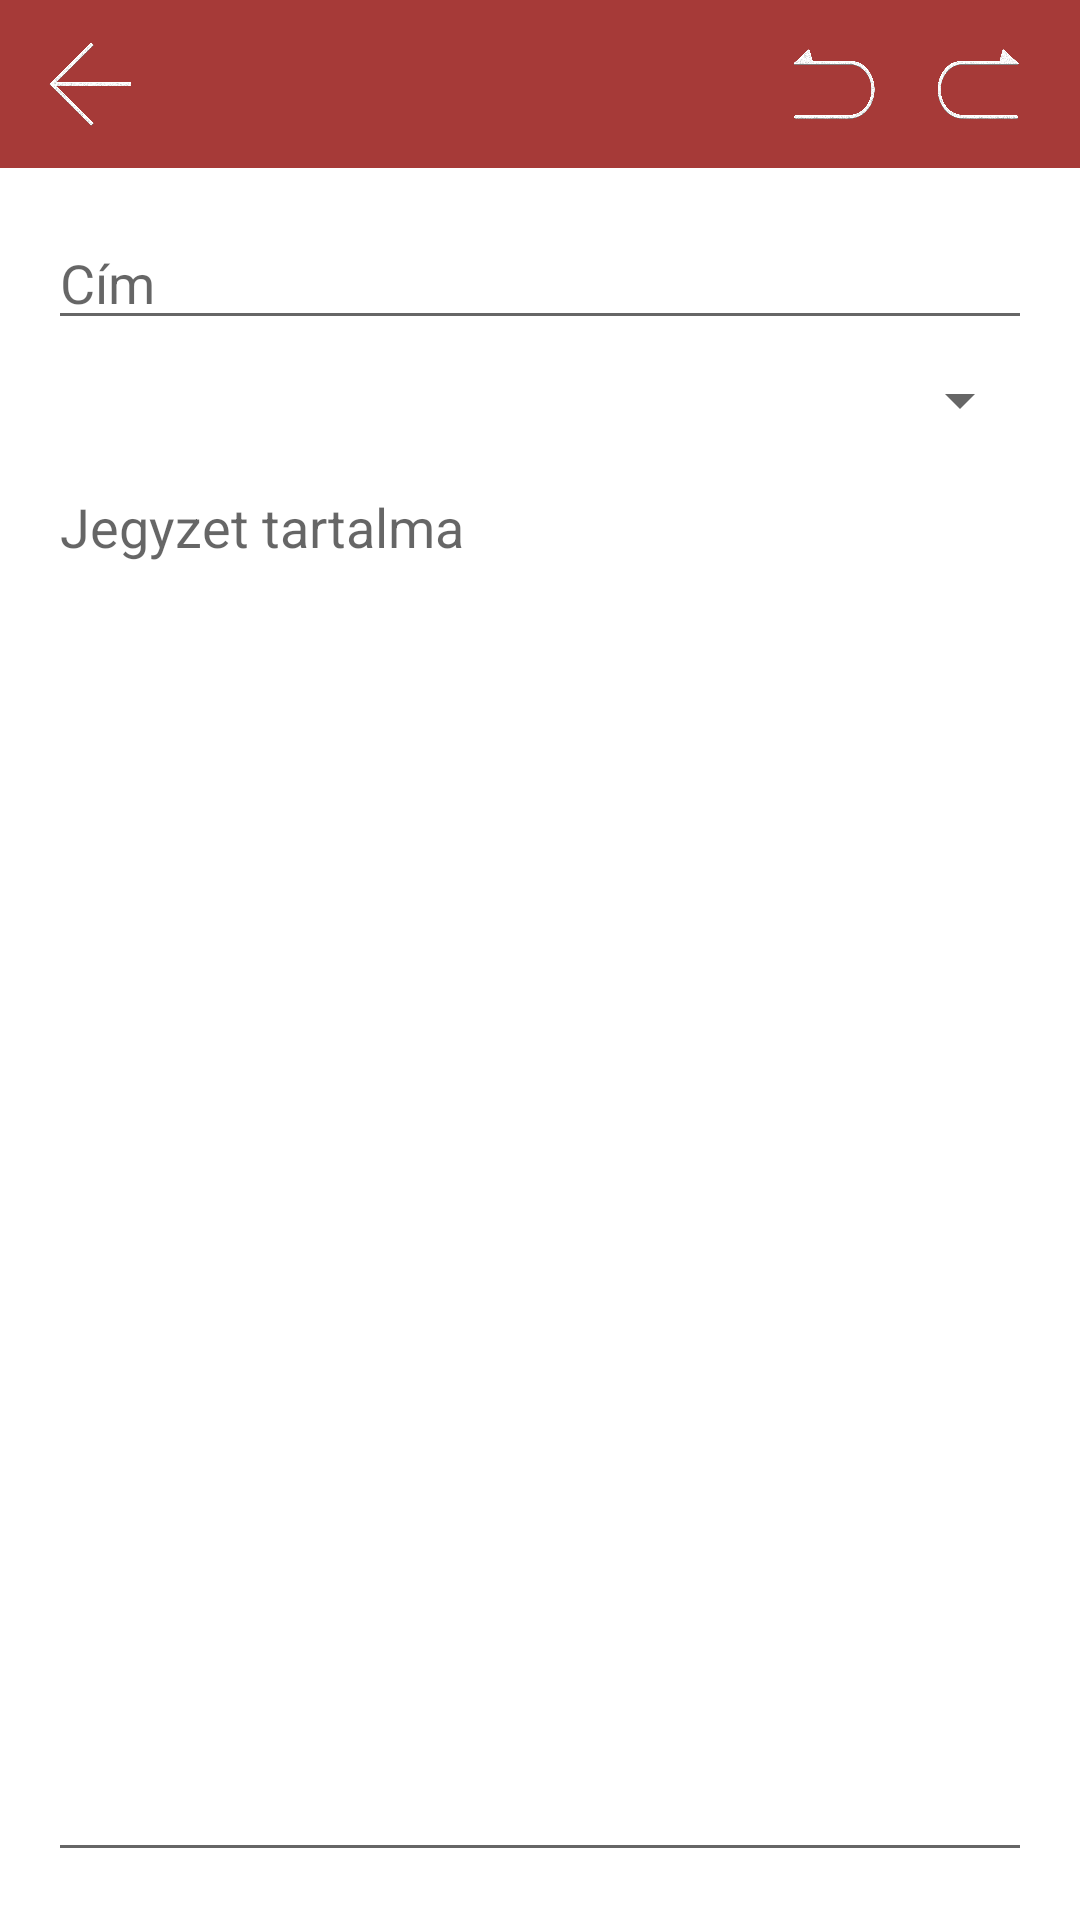

Screen size 1080x1920. Icon name, then its center in pixels as point (x, y):
back: point (90, 84)
redo: point (978, 84)
undo: point (834, 84)
